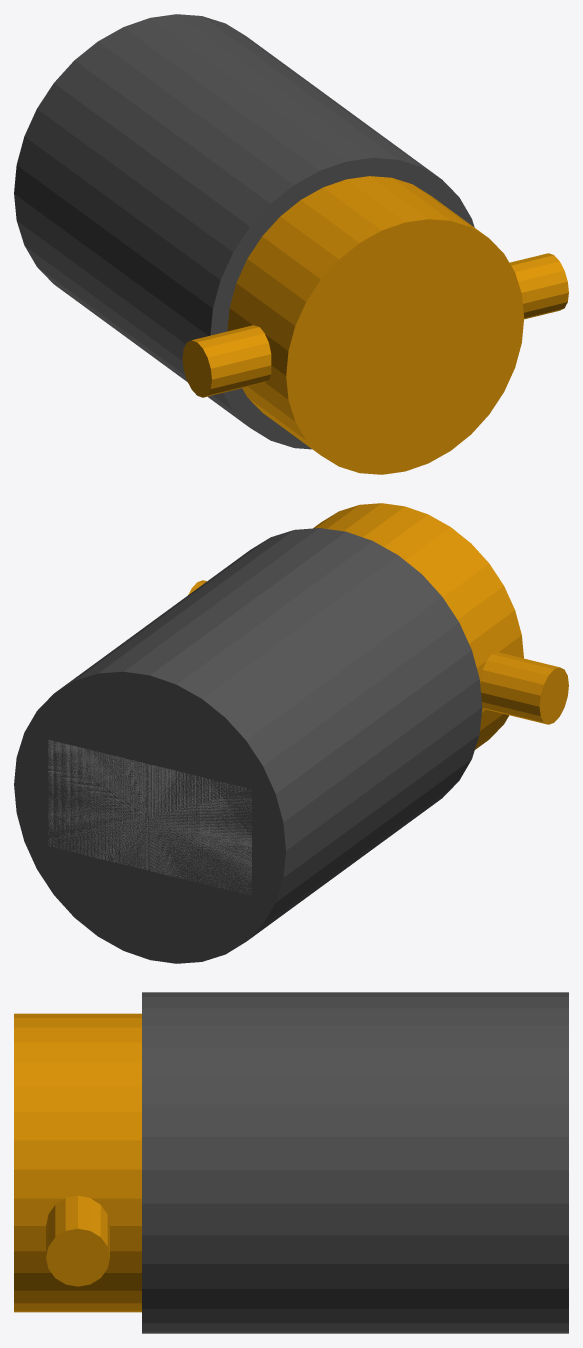
File: bomba_cam_w4c_estilizada.glb
The picture shows the model from 3 angles, top to bottom: view 1: azimuth 30°, elevation 25°; view 2: azimuth 150°, elevation 25°; view 3: azimuth 270°, elevation 25°; orthographic projection. The views are drawn at different scales.
Parts seen in each view (by area): view 1: world; view 2: world; view 3: world.
Boxes of the visible parts, x1,y1,x2,y2 form: world: (14,14,568,474); world: (14,503,568,963); world: (14,992,568,1333).
Bounding box in the file's own units: 0.21 × 0.16 × 0.26.
